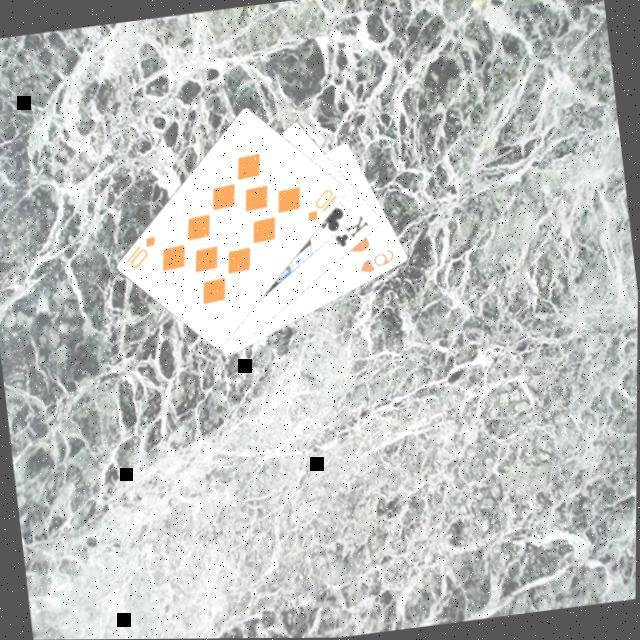10D: (302, 182, 344, 222), (120, 230, 162, 270)
6H: (355, 243, 400, 276)
KC: (322, 208, 374, 250)
